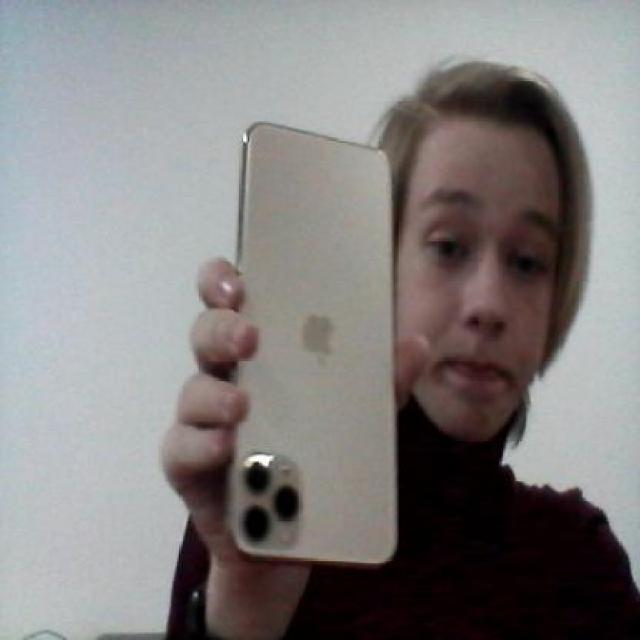mobile: (212, 91, 408, 597)
